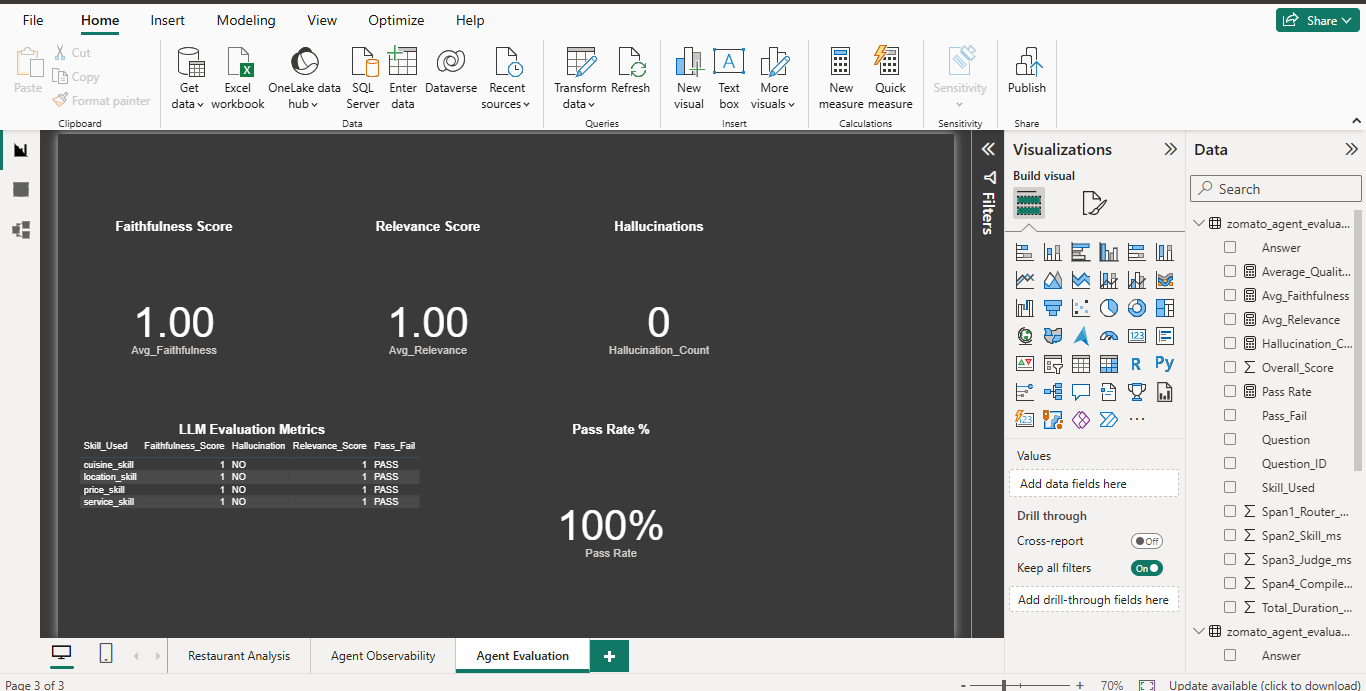

Layout of this report page (visuals, bound fields, positions):
{"tool":"powerbi","page":{"name":"Agent Evaluation","canvas":[1280,720],"ordinal":2},"visuals":[{"type":"card","title":"Faithfulness Score","fields":{"Values":["zomato_agent_evaluation.Avg_Faithfulness"]},"box":[25.7,121.4,280,280],"z":0},{"type":"card","title":"Relevance Score","fields":{"Values":["zomato_agent_evaluation.Avg_Relevance"]},"box":[388.6,121.4,280,280],"z":1},{"type":"card","title":"Hallucinations","fields":{"Values":["zomato_agent_evaluation.Hallucination_Count"]},"box":[718.6,121.4,280,280],"z":2},{"type":"tableEx","title":"LLM Evaluation Metrics","fields":{"Values":["zomato_agent_evaluation_full.Skill_Used","zomato_agent_evaluation_full.Faithfulness_Score","zomato_agent_evaluation_full.Hallucination","zomato_agent_evaluation_full.Relevance_Score","zomato_agent_evaluation_full.Pass_Fail"]},"box":[25.7,411.4,502.9,280],"z":3},{"type":"card","title":"Pass Rate %","fields":{"Values":["zomato_agent_evaluation.Pass Rate"]},"box":[539,411,503,280],"z":4}]}

Visuals, with their boxes on the page's 1280x720 design canvas (x1, y1, x2, y2). These are canvas units, not pixel positions in the 1366x691 screenshot, which may show the page scaled, cropped or inside an application window:
"Faithfulness Score" card: select_region(26, 121, 306, 401)
"Relevance Score" card: select_region(389, 121, 669, 401)
"Hallucinations" card: select_region(719, 121, 999, 401)
"LLM Evaluation Metrics" tableEx: select_region(26, 411, 529, 691)
"Pass Rate %" card: select_region(539, 411, 1042, 691)
